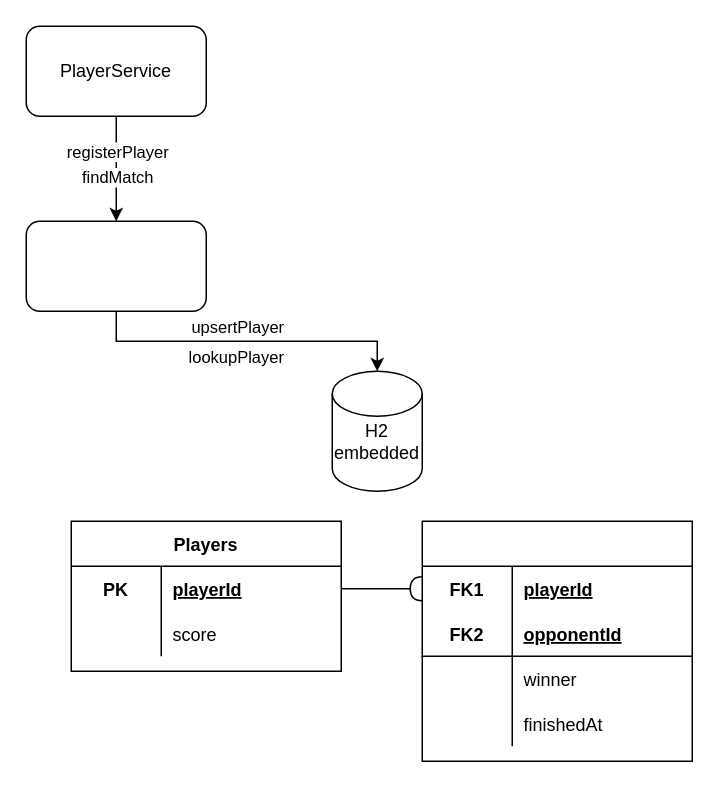
Image size: 719x788. Some labels were removed from this diagram. Each missing label, with the box of its shape:
Games: (421, 520, 692, 761)
PlayerStore: (25, 220, 206, 311)
